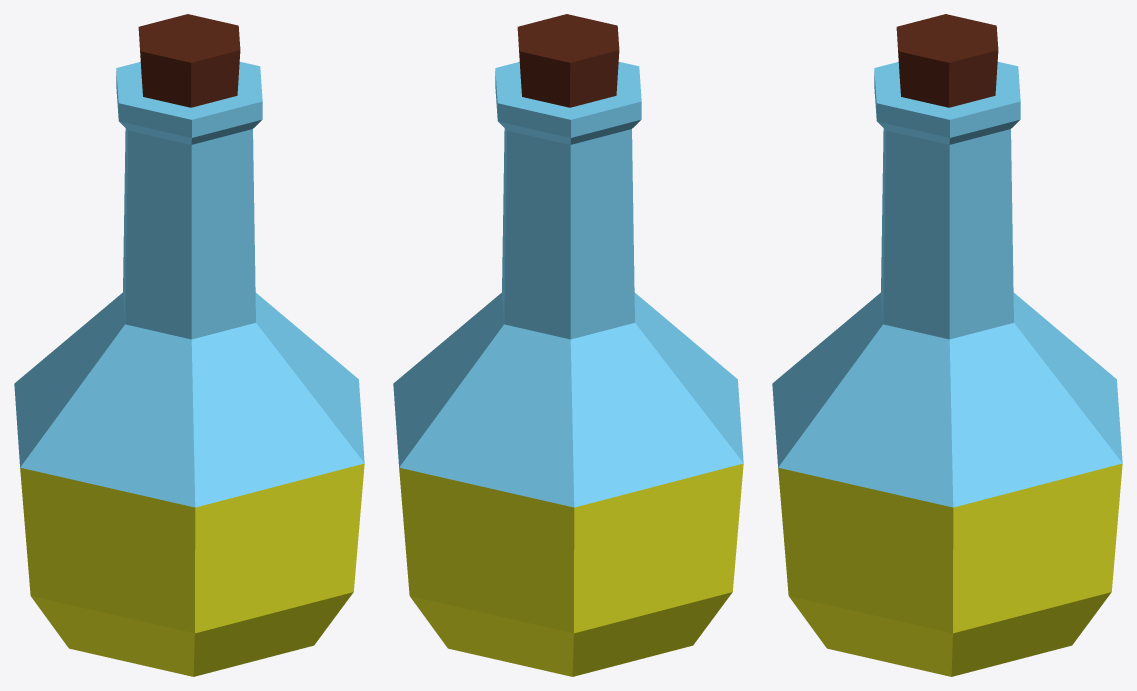
Rendered from m_YellowPotion.FBX.
3 renders of one model, left to right at view 1: azimuth 30°, elevation 25°; view 2: azimuth 150°, elevation 25°; view 3: azimuth 270°, elevation 25°, orthographic.
Parts seen in each view (by area): view 1: Circle.001; view 2: Circle.001; view 3: Circle.001.
Boxes of the visible parts, left/top/right/bottom form: Circle.001: left=14, top=14, right=364, bottom=676; Circle.001: left=393, top=14, right=743, bottom=676; Circle.001: left=772, top=14, right=1122, bottom=676.
Size of the model in its own units: 45.15 by 72.46 by 39.76.
1 material, 1 textured.
